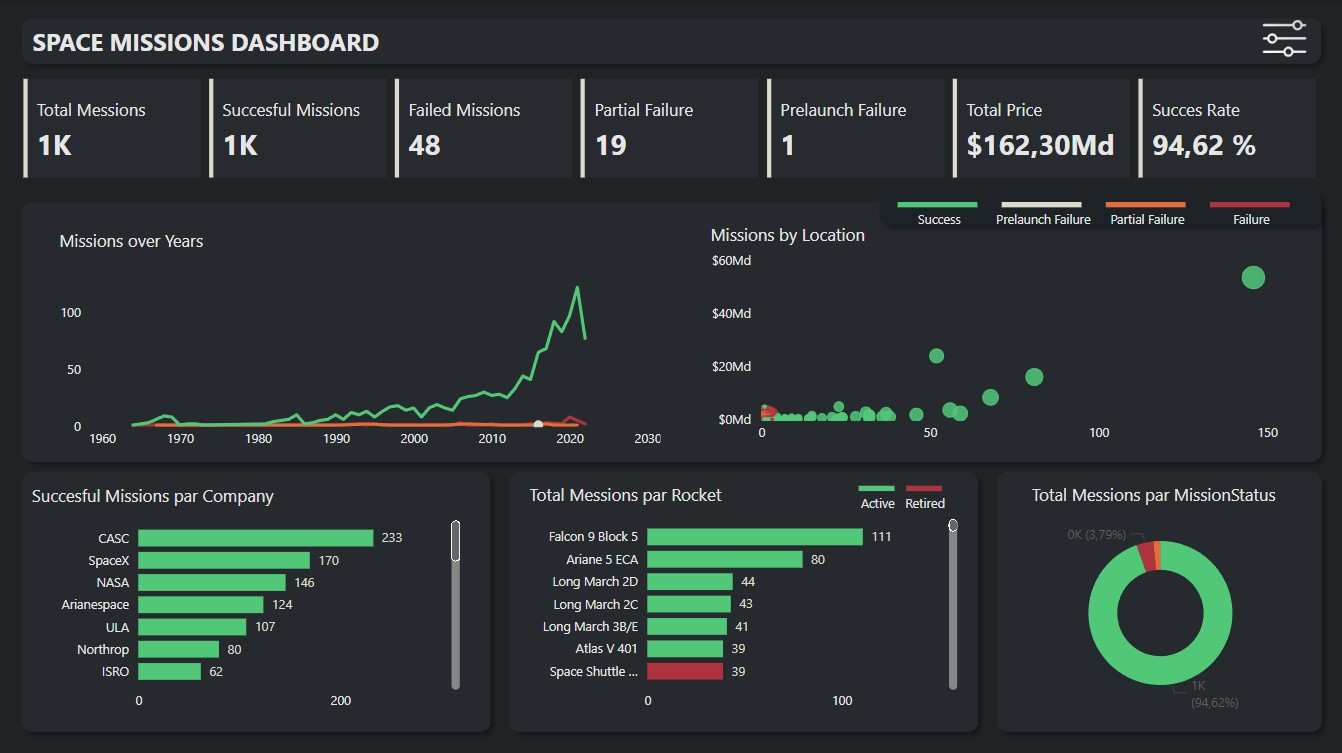

The dashboard page shown, as its layout file describes it:
{"tool":"powerbi","page":{"name":"Page 2","canvas":[1280,720],"ordinal":1},"visuals":[{"type":"shape","box":[12.1,183,1255.5,265.4],"z":0},{"type":"shape","box":[11.9,440.1,464,265.4],"z":1000},{"type":"shape","box":[476.3,440.1,464.1,265.4],"z":2000},{"type":"shape","box":[940.4,440.1,327.3,265.4],"z":3000},{"type":"shape","title":"SPACE MISSIONS DASHBOARD","box":[12,8.4,1254.8,61.3],"z":4000},{"type":"lineChart","title":"Missions over Years","fields":{"Category":["Date Table.Year"],"Y":["All Measures.Total Messions"],"Series":["space_missions.MissionStatus"]},"box":[30.9,207.1,592.7,227.3],"z":5000},{"type":"scatterChart","title":"Missions by Location","fields":{"X":["All Measures.Total Messions"],"Y":["All Measures.Total Price"],"Category":["space_missions.Location"],"Series":["space_missions.MissionStatus"],"Size":["All Measures.Succesful Missions"]},"box":[666.4,207.1,591.5,227.3],"z":6000},{"type":"donutChart","fields":{"Y":["All Measures.Total Messions"],"Category":["space_missions.MissionStatus"]},"box":[972.3,454.6,264.2,235.6],"z":7000},{"type":"barChart","fields":{"Category":["space_missions.Company"],"Y":["All Measures.Succesful Missions"]},"box":[20.2,455.6,427.2,234.4],"z":8000},{"type":"barChart","fields":{"Category":["space_missions.Rocket"],"Y":["All Measures.Total Messions"]},"box":[493.9,455,427.2,235.6],"z":9000},{"type":"shape","box":[828.1,170.7,438.7,54.1],"z":10000},{"type":"columnChart","fields":{"Y":["All Measures.Legend"],"Category":["space_missions.MissionStatus"]},"box":[804.1,179.1,475.9,54.1],"z":11000},{"type":"columnChart","fields":{"Y":["All Measures.Legend"],"Category":["space_missions.RocketStatus"]},"box":[766.8,448.3,182.7,54.1],"z":12000},{"type":"cardVisual","fields":{"Data":["All Measures.Total Messions","All Measures.Succesful Missions","All Measures.Failed Missions","All Measures.Partial Failure","All Measures.Prelaunch Failure","All Measures.Total Price","All Measures.Succes Rate"]},"box":[12,69.7,1256,109.4],"z":13000},{"type":"image","title":"filter icon","box":[1184.1,3.6,73.8,70.2],"z":17000}]}

Visuals, with their boxes in screenshot pixels (x1, y1, x2, y2), scaled from the page's 1280x720 canvas onto the 1342x753 screenshot:
shape: crop(13, 191, 1329, 469)
shape: crop(12, 460, 499, 738)
shape: crop(499, 460, 986, 738)
shape: crop(986, 460, 1329, 738)
"SPACE MISSIONS DASHBOARD" shape: crop(13, 9, 1328, 73)
"Missions over Years" lineChart: crop(32, 217, 654, 454)
"Missions by Location" scatterChart: crop(699, 217, 1319, 454)
donutChart - All Measures.Total Messions x space_missions.MissionStatus: crop(1019, 475, 1296, 722)
barChart - space_missions.Company x All Measures.Succesful Missions: crop(21, 476, 469, 722)
barChart - space_missions.Rocket x All Measures.Total Messions: crop(518, 476, 966, 722)
shape: crop(868, 179, 1328, 235)
columnChart - All Measures.Legend x space_missions.MissionStatus: crop(843, 187, 1341, 244)
columnChart - All Measures.Legend x space_missions.RocketStatus: crop(804, 469, 995, 525)
cardVisual - All Measures.Total Messions x All Measures.Succesful Missions: crop(13, 73, 1329, 187)
"filter icon" image: crop(1241, 4, 1319, 77)
